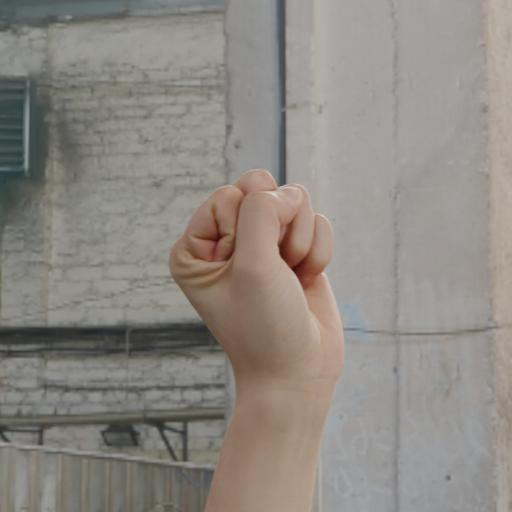S: (161, 158, 365, 422)
